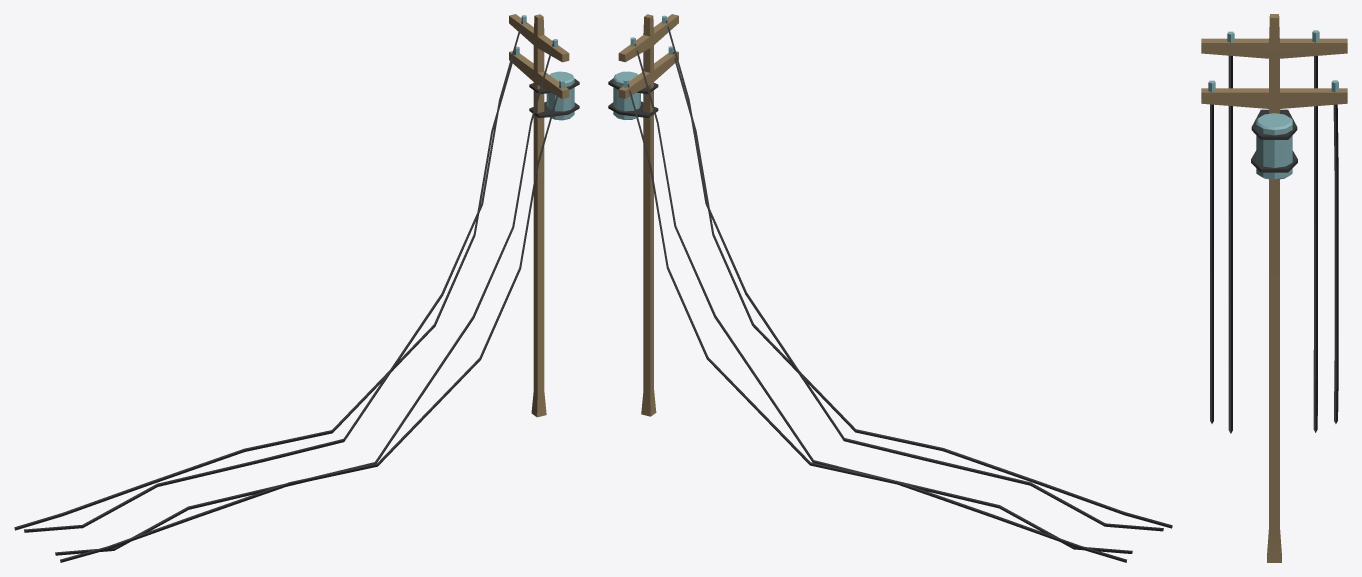
The model's file is model_polytope_powerlines04.fbx.
3 renders of one model, left to right at view 1: azimuth 30°, elevation 25°; view 2: azimuth 150°, elevation 25°; view 3: azimuth 270°, elevation 25°, orthographic. The views are drawn at different scales.
Parts seen in each view (by area): view 1: model_polytope_powerlines04; view 2: model_polytope_powerlines04; view 3: model_polytope_powerlines04.
Part boxes in pixels (x1=…): model_polytope_powerlines04: x1=14, y1=14, x2=579, y2=562; model_polytope_powerlines04: x1=608, y1=14, x2=1172, y2=562; model_polytope_powerlines04: x1=1201, y1=14, x2=1347, y2=562.
Size of the model in its own units: 1065 by 787 by 184.
Materials: 1 (1 with a texture image).
